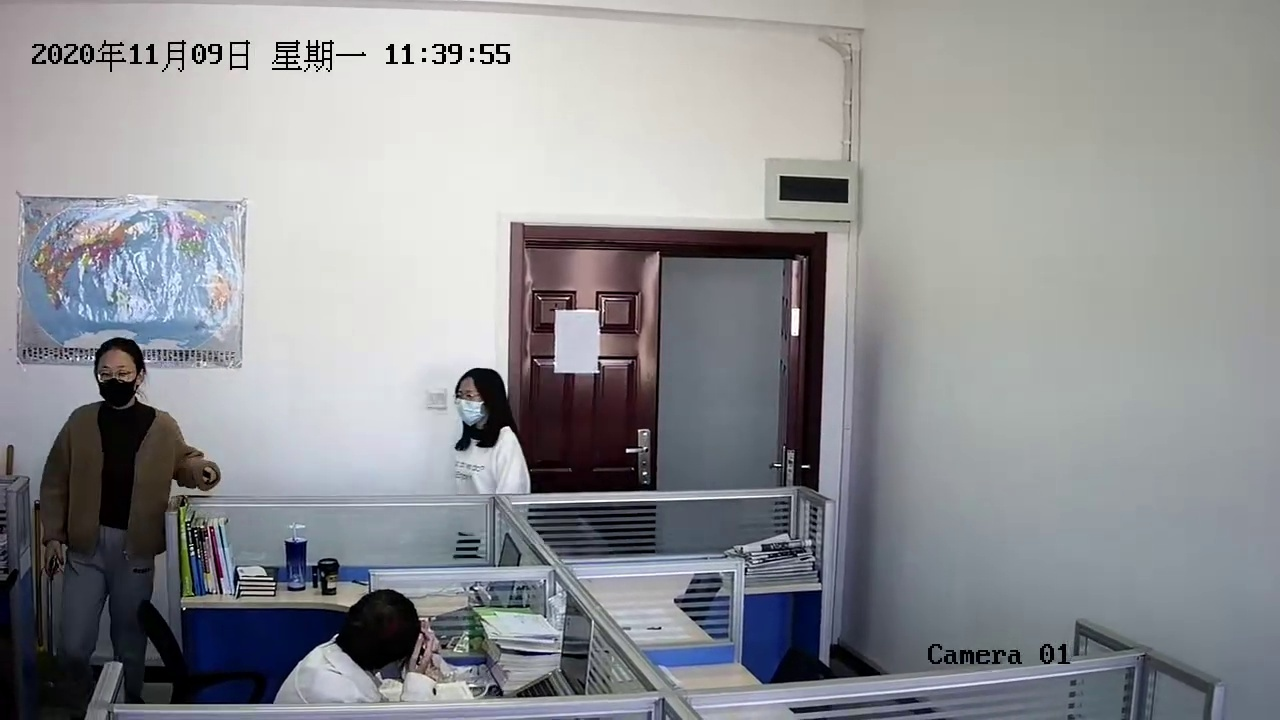mask: (94, 345, 142, 406), (452, 378, 495, 429)
